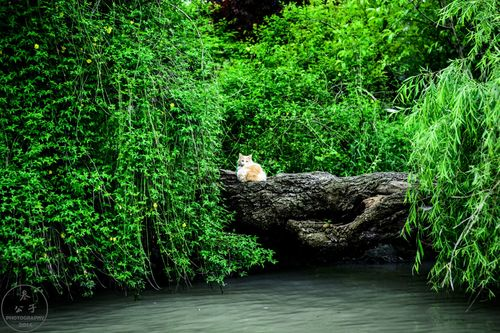cat: (234, 152, 266, 185)
